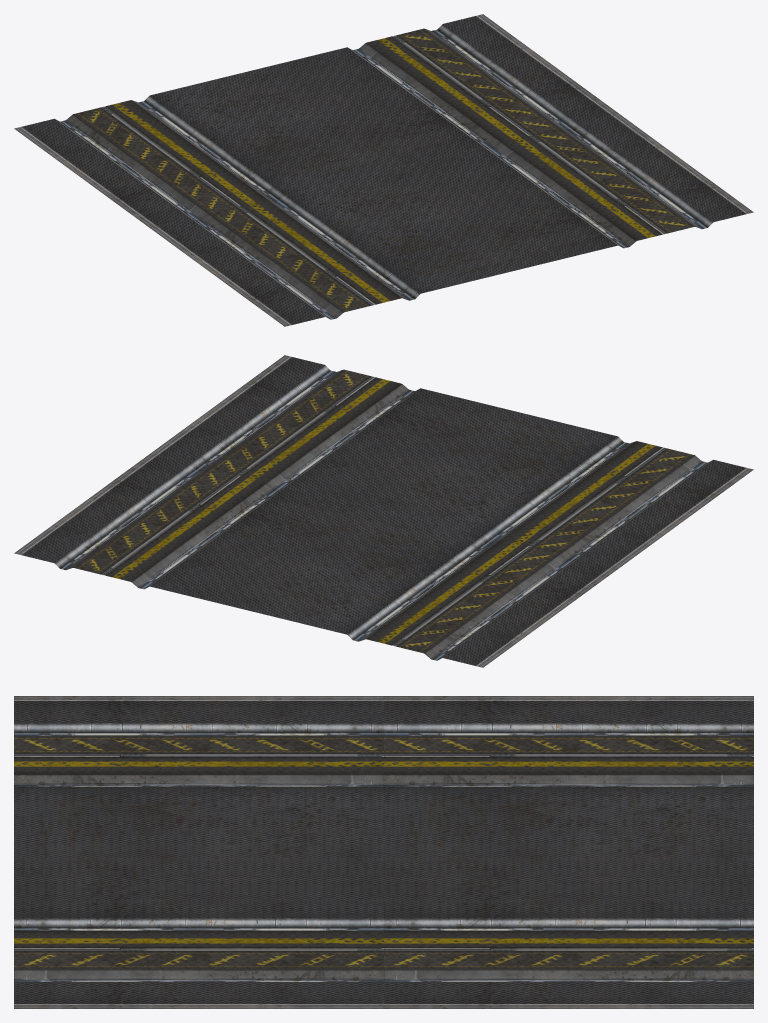
Rendered from FLO_FloorMixed04_5x5.FBX.
3 renders of one model, top to bottom at view 1: azimuth 30°, elevation 25°; view 2: azimuth 150°, elevation 25°; view 3: azimuth 270°, elevation 25°, orthographic. The views are drawn at different scales.
Visible parts, largest first — view 1: FLO_FloorMixed04_5x5; view 2: FLO_FloorMixed04_5x5; view 3: FLO_FloorMixed04_5x5.
Part boxes in pixels (box(x1,y1,x2,y2)): FLO_FloorMixed04_5x5: box(14, 14, 753, 326); FLO_FloorMixed04_5x5: box(14, 355, 753, 667); FLO_FloorMixed04_5x5: box(14, 696, 753, 1008).
Bounding box in the file's own units: 500 × 4.33 × 500.
1 material, 1 textured.
